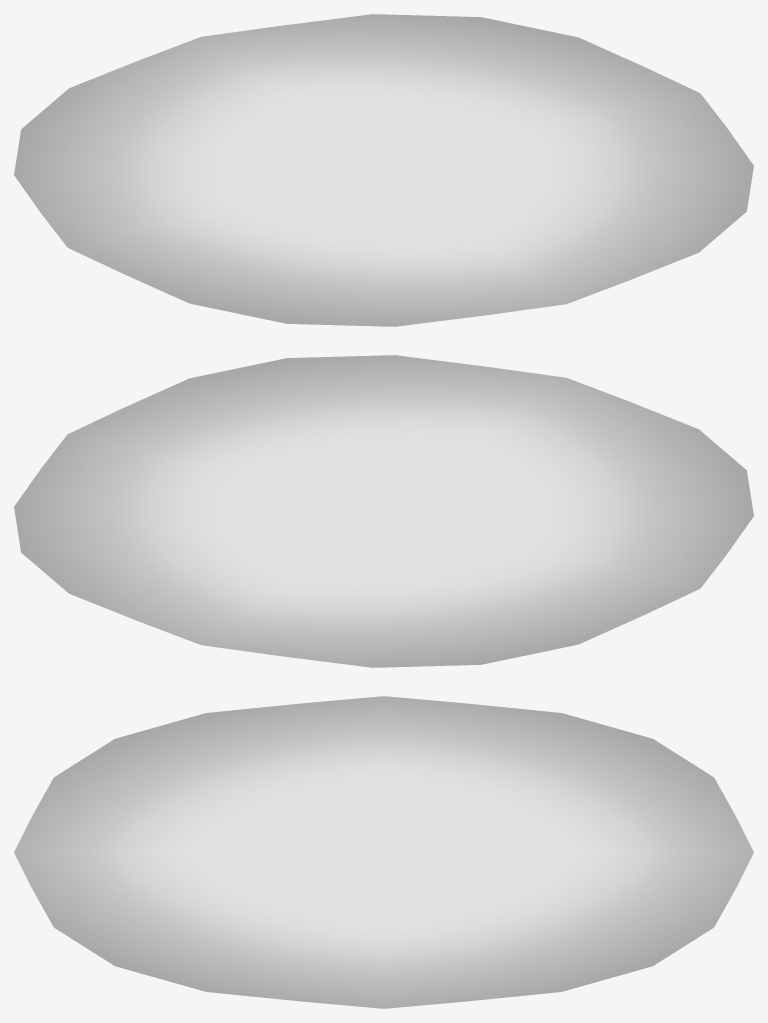
The model's file is TimePlatformFloor.fbx.
The picture shows the model from 3 angles, top to bottom: view 1: azimuth 30°, elevation 25°; view 2: azimuth 150°, elevation 25°; view 3: azimuth 270°, elevation 25°; orthographic projection.
Parts seen in each view (by area): view 1: TimePlatformFloor; view 2: TimePlatformFloor; view 3: TimePlatformFloor.
Part boxes in pixels (<box>): TimePlatformFloor: <box>14,14,753,326</box>; TimePlatformFloor: <box>14,355,753,667</box>; TimePlatformFloor: <box>14,696,753,1008</box>.
Size of the model in its own units: 5.3 by 5.3 by 0.
